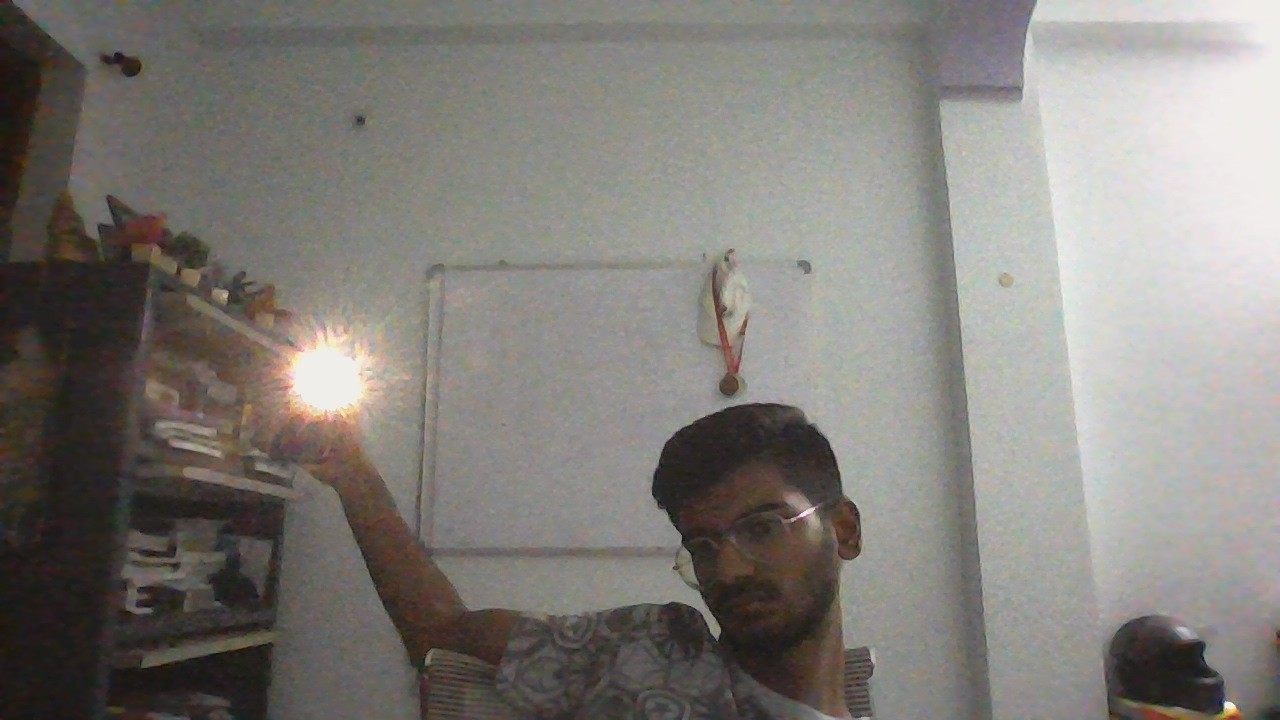Glare: (286, 328, 373, 419)
